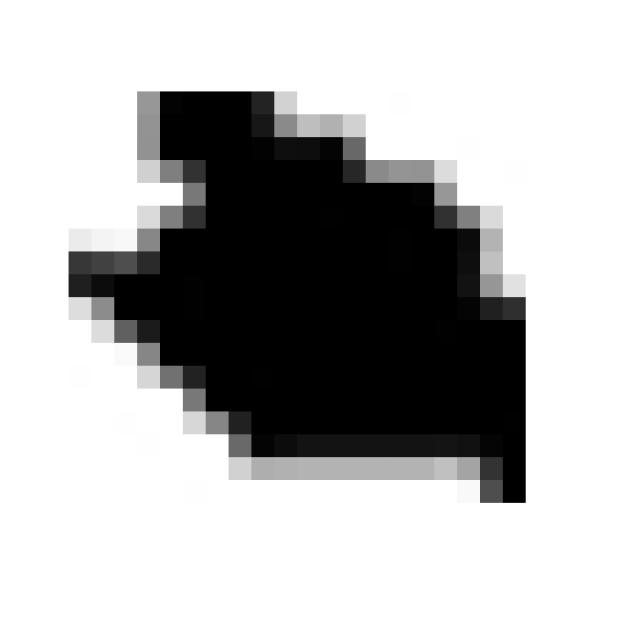0 -zero-: (48, 76, 541, 528)
